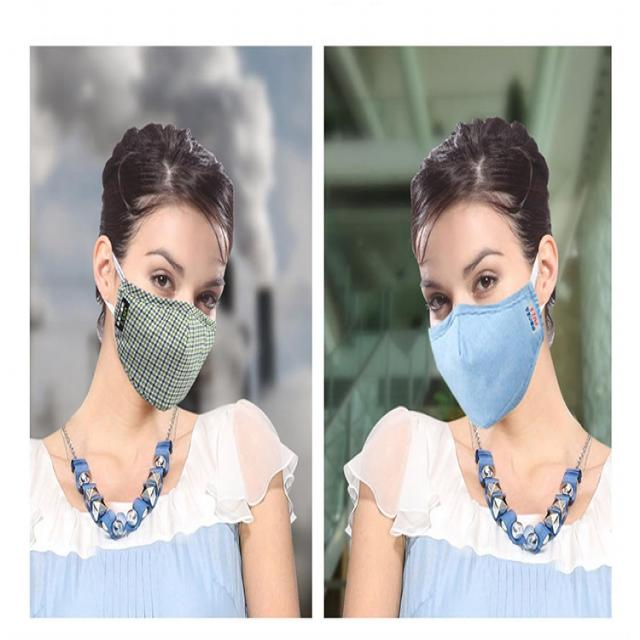mask: (420, 204, 541, 428), (113, 206, 222, 414)
